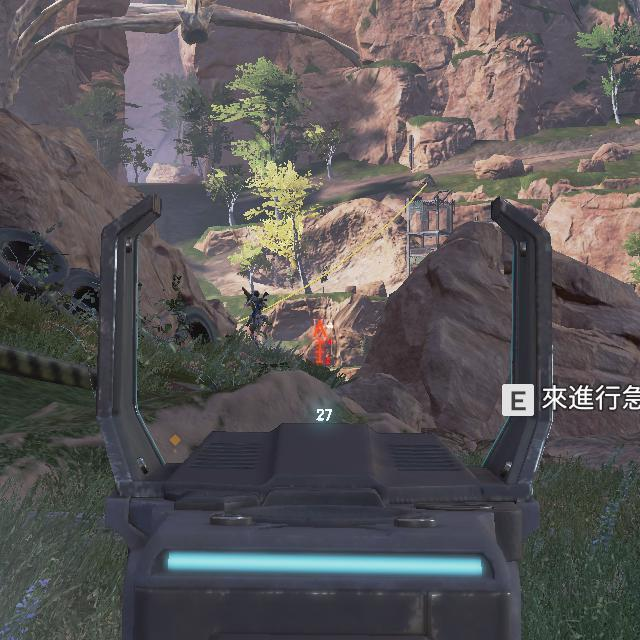avatar: (242, 287, 272, 345)
